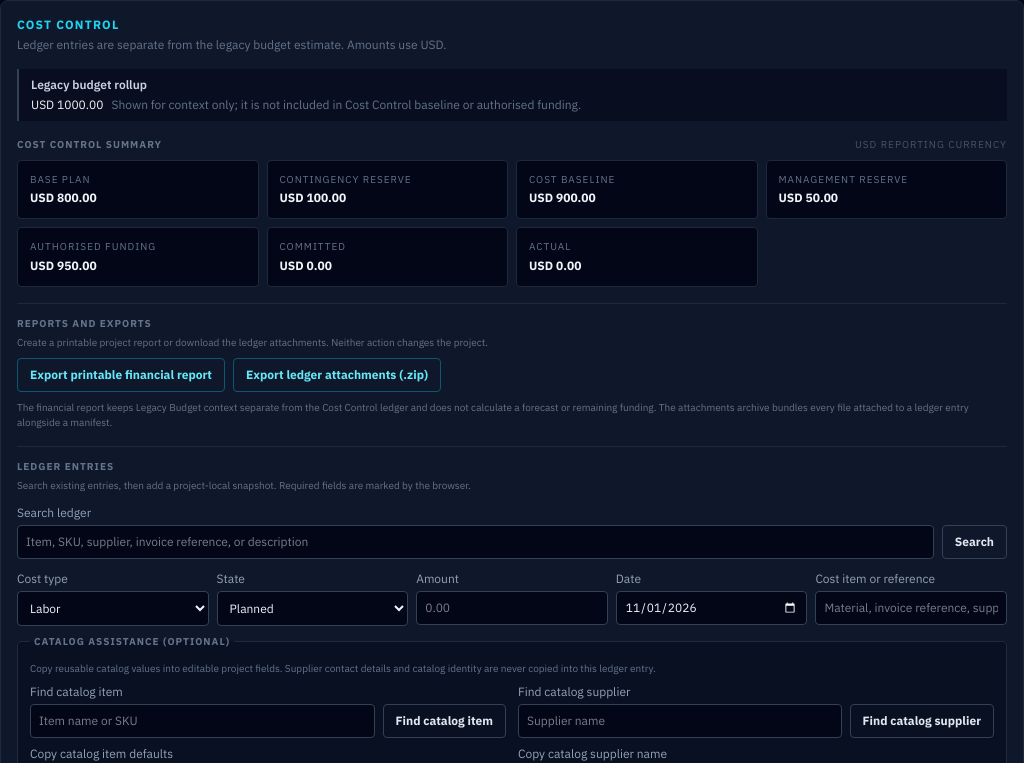
CostControlPanel › shows catalog no-match guidance only after a completed lookup
Expected: the heading "Legacy budget rollup" is shown, x1=31 y1=77 x2=147 y2=92
In the field labelled "Find catalog item": [202, 721] box x1=30 y1=704 x2=375 y2=738, type "missing item"
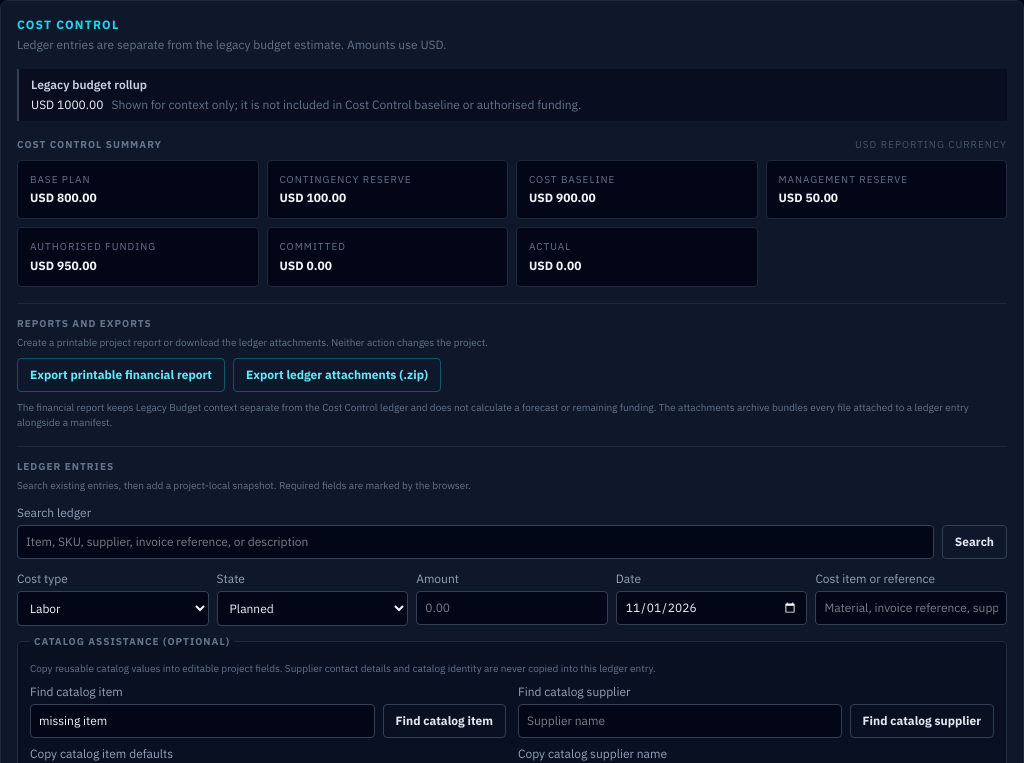
Expected: the text "No active catalog items match this search." is not shown
Click the button "Find catalog item": [444, 721] box x1=383 y1=704 x2=506 y2=738
(page scrolled)
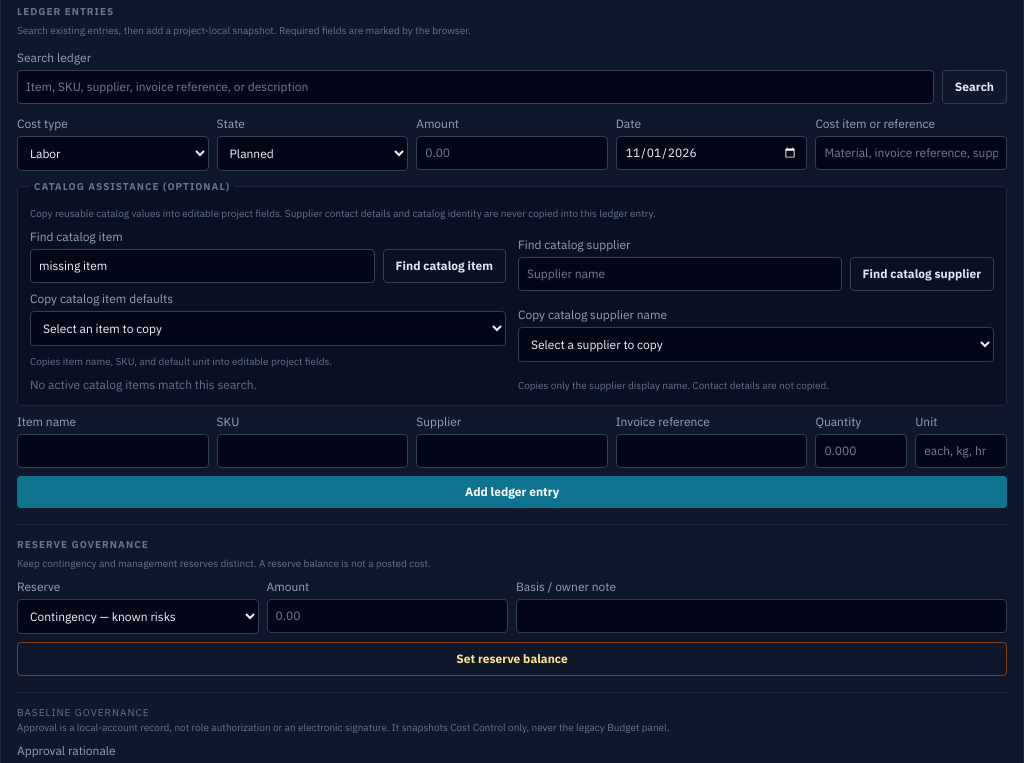
Expected: the text "No active catalog items match this search." is shown, x1=30 y1=377 x2=257 y2=392
